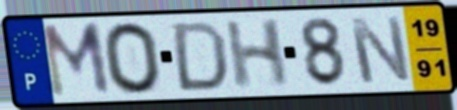8: (298, 15, 349, 88)
D: (171, 19, 229, 93)
H: (222, 16, 291, 92)
M: (38, 19, 114, 101)
N: (345, 14, 415, 86)
O: (100, 20, 166, 97)
